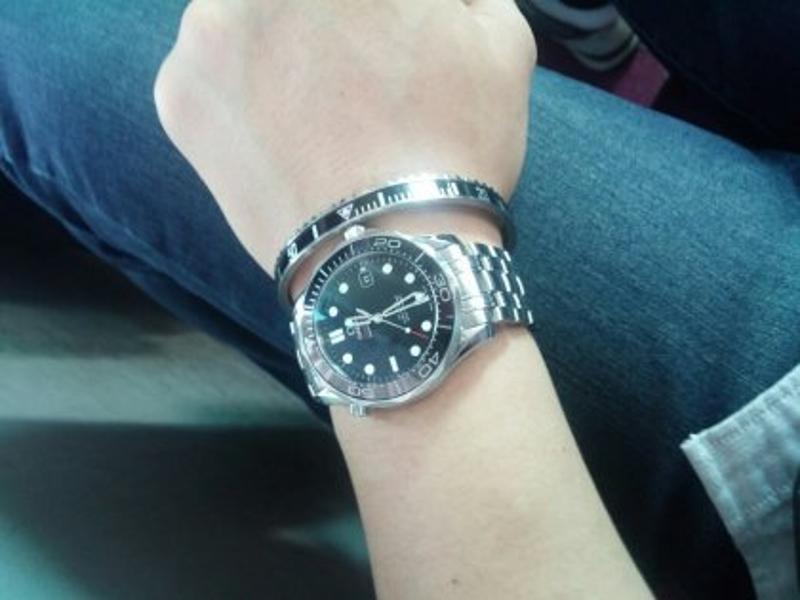watch: (279, 225, 537, 416)
